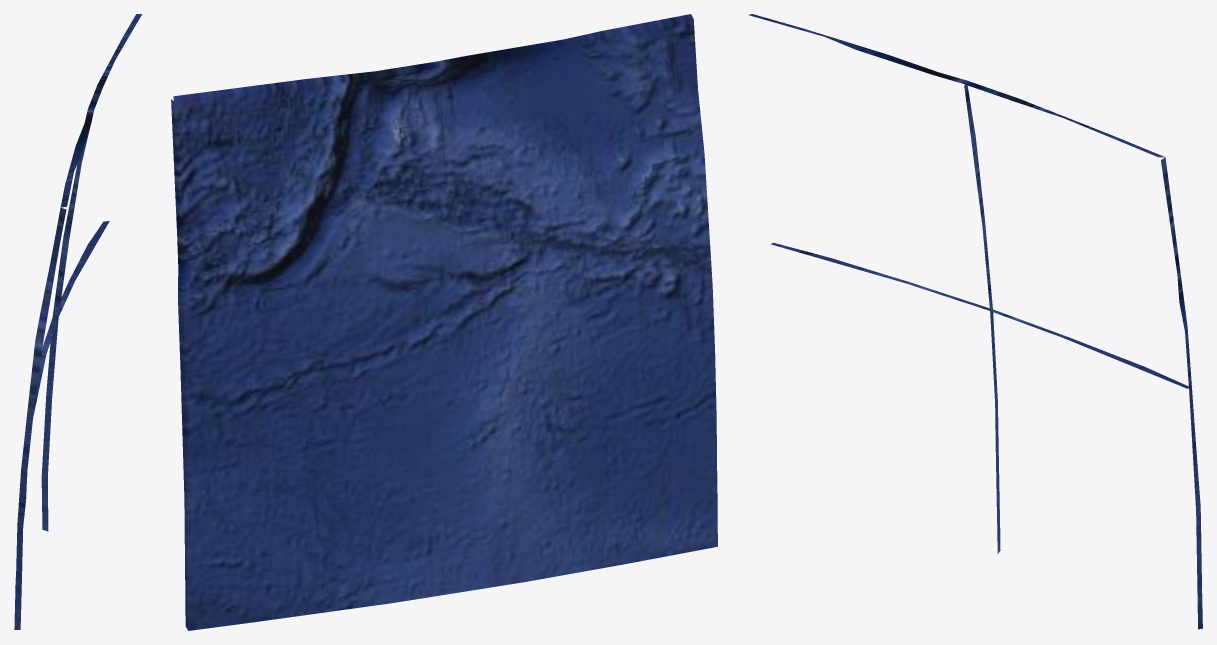
3 renders of one model, left to right at view 1: azimuth 30°, elevation 25°; view 2: azimuth 150°, elevation 25°; view 3: azimuth 270°, elevation 25°, orthographic. The views are drawn at different scales.
Bounding box in the file's own units: 897191 × 1252827 × 1054806.
Materials: 1 (1 with a texture image).
